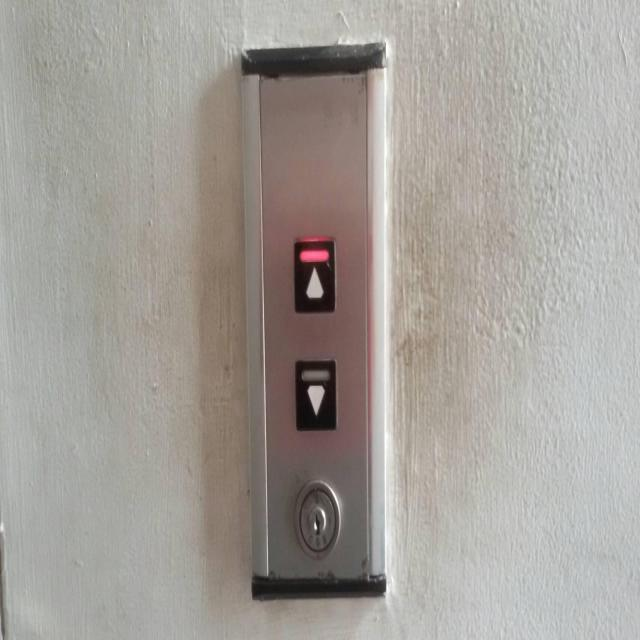down: (292, 350, 338, 439)
keyhole: (293, 477, 341, 562)
up: (290, 231, 336, 320)
